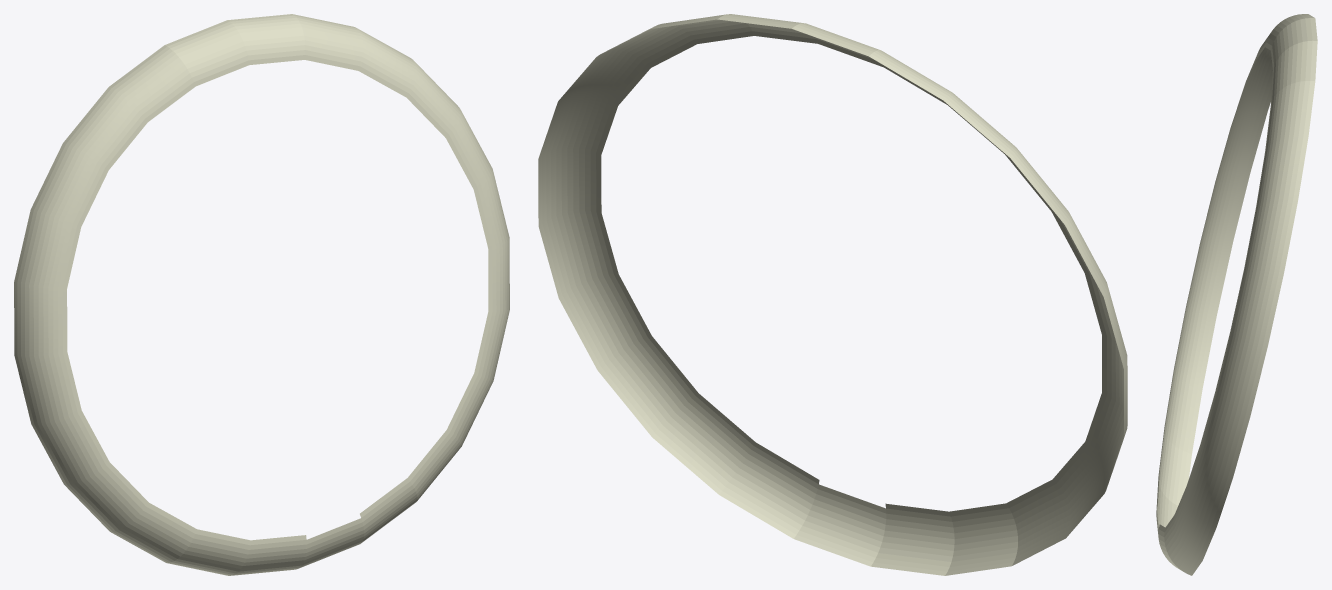
Rendered from original-38.obj.
3 renders of one model, left to right at view 1: azimuth 30°, elevation 25°; view 2: azimuth 150°, elevation 25°; view 3: azimuth 270°, elevation 25°, orthographic. The views are drawn at different scales.
Parts seen in each view (by area): view 1: mesh11/mesh11-geometry/material_0#mesh11-geometry; view 2: mesh11/mesh11-geometry/material_0#mesh11-geometry; view 3: mesh11/mesh11-geometry/material_0#mesh11-geometry.
Boxes of the visible parts, x1=… form: mesh11/mesh11-geometry/material_0#mesh11-geometry: x1=14, y1=14, x2=509, y2=575; mesh11/mesh11-geometry/material_0#mesh11-geometry: x1=538, y1=14, x2=1127, y2=575; mesh11/mesh11-geometry/material_0#mesh11-geometry: x1=1156, y1=14, x2=1317, y2=575.
Bounding box in the file's own units: 0.0622 × 0.0605 × 0.0174.
